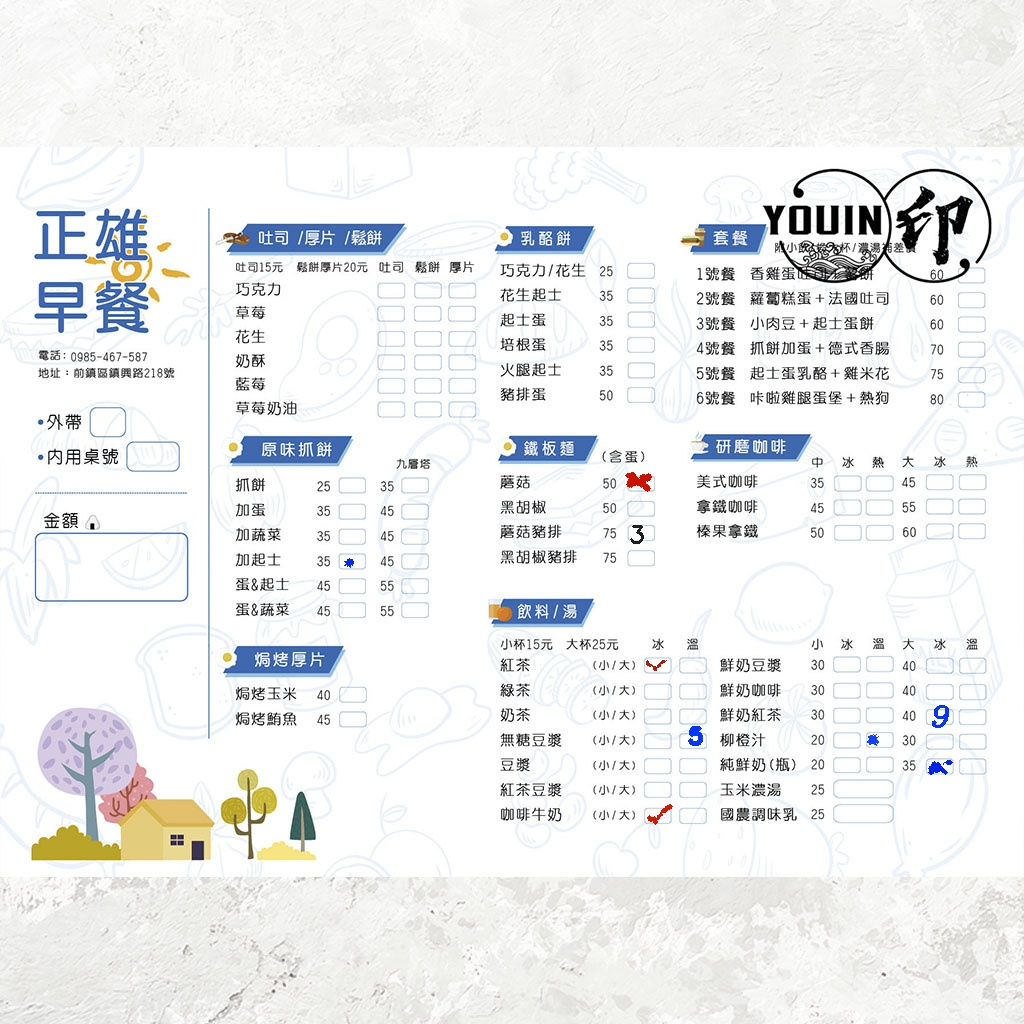marked_circle: (866, 732, 892, 746), (337, 554, 363, 568)
marked_number_3: (625, 526, 651, 540)
marked_number_5: (679, 732, 705, 746)
marked_number_9: (926, 711, 952, 725)
marked_tick: (644, 657, 670, 671), (644, 807, 670, 821)
marked_x: (925, 759, 951, 773), (627, 474, 653, 488)
